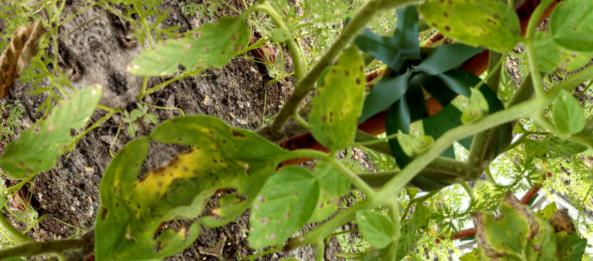Tomato Septoria leaf spot: (123, 0, 260, 108), (280, 46, 397, 161), (221, 151, 339, 261), (184, 0, 343, 30), (238, 247, 351, 261), (86, 0, 216, 7), (356, 259, 465, 261)
